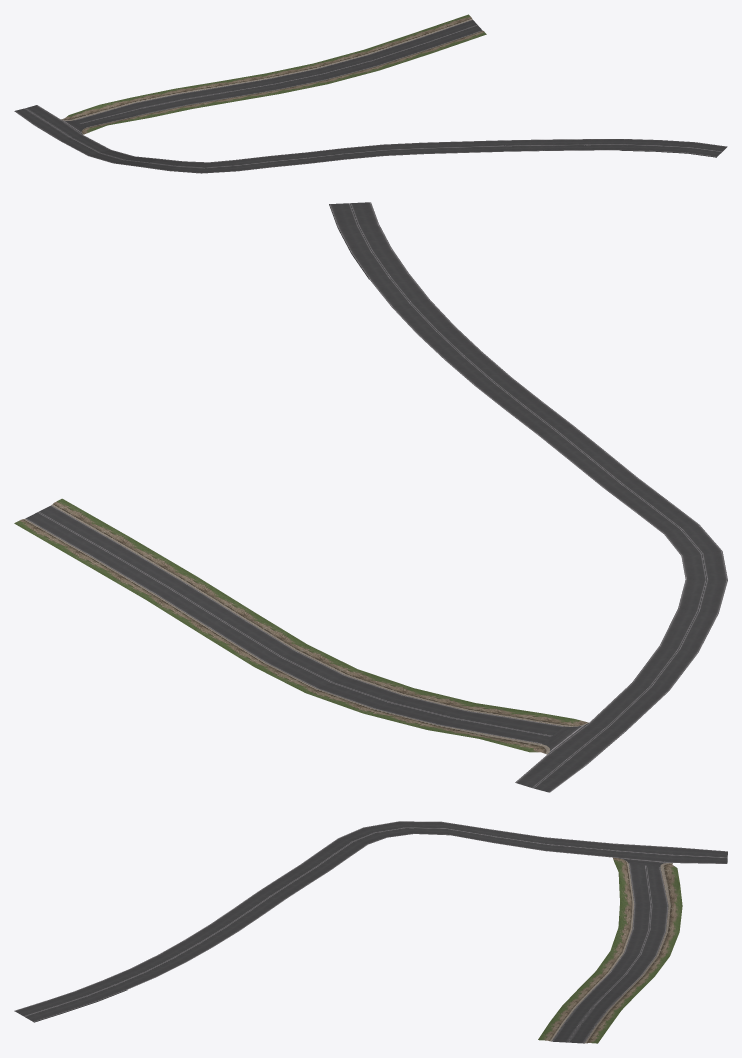
File: cunte_roads35.obj
3 renders of one model, top to bottom at view 1: azimuth 30°, elevation 25°; view 2: azimuth 150°, elevation 25°; view 3: azimuth 270°, elevation 25°, orthographic. The views are drawn at different scales.
Visible parts, largest first — view 1: cunte_roads35; view 2: cunte_roads35; view 3: cunte_roads35.
Part boxes in pixels (x1,y1,x2,y2): cunte_roads35: (14, 14, 727, 173); cunte_roads35: (14, 202, 727, 792); cunte_roads35: (14, 821, 727, 1043).
Bounding box in the file's own units: 218 × 33.32 × 258.
